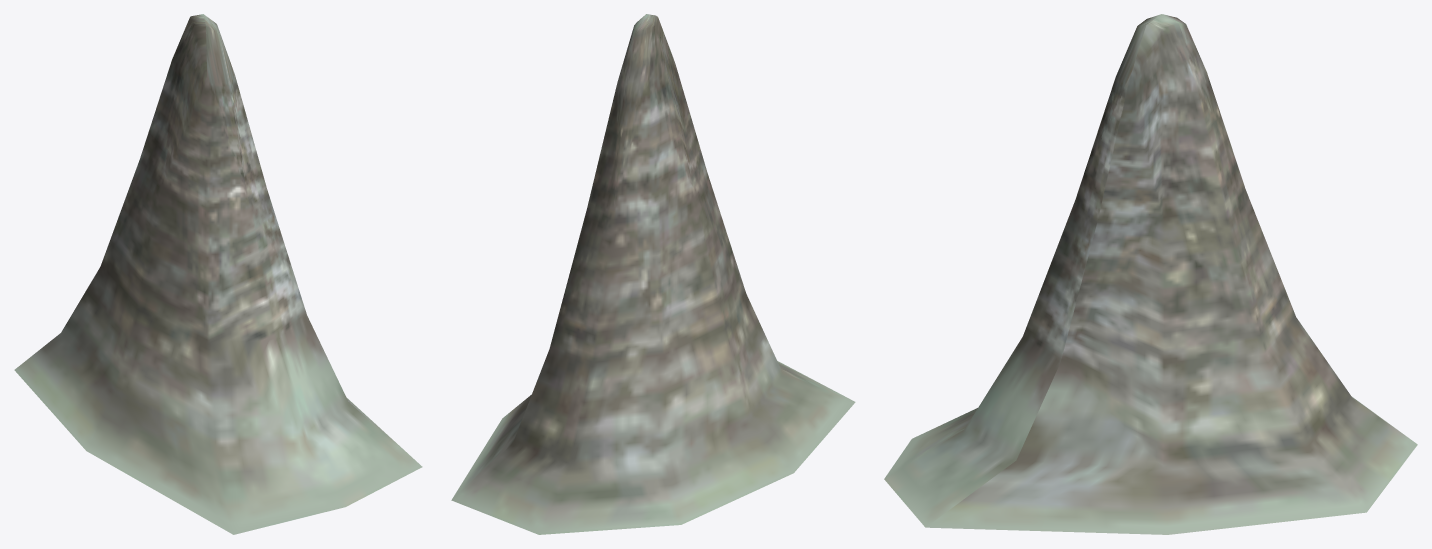
Rendered from TROLLHOLE02_PS-MAINSTALAG01.fbx.
3 views of the same model, side by side, from view 1: azimuth 30°, elevation 25°; view 2: azimuth 150°, elevation 25°; view 3: azimuth 270°, elevation 25° (orthographic). The views are drawn at different scales.
Visible parts, largest first — view 1: TROLLHOLE02_PS-MAINSTALAG01; view 2: TROLLHOLE02_PS-MAINSTALAG01; view 3: TROLLHOLE02_PS-MAINSTALAG01.
Part boxes in pixels (x1,y1,x2,y2): TROLLHOLE02_PS-MAINSTALAG01: (14,14,422,534); TROLLHOLE02_PS-MAINSTALAG01: (451,14,855,534); TROLLHOLE02_PS-MAINSTALAG01: (884,14,1417,534).
Size of the model in its own units: 15549 by 24304 by 25057.
1 material, 1 textured.
